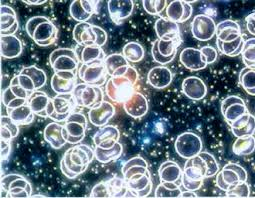Malaria: (173, 129, 204, 159), (107, 77, 134, 103), (60, 153, 86, 179), (182, 76, 207, 101), (180, 47, 208, 69), (34, 22, 58, 47), (191, 15, 214, 40), (147, 66, 173, 88), (61, 121, 86, 143), (9, 76, 34, 98), (106, 1, 133, 19), (123, 42, 145, 62)
